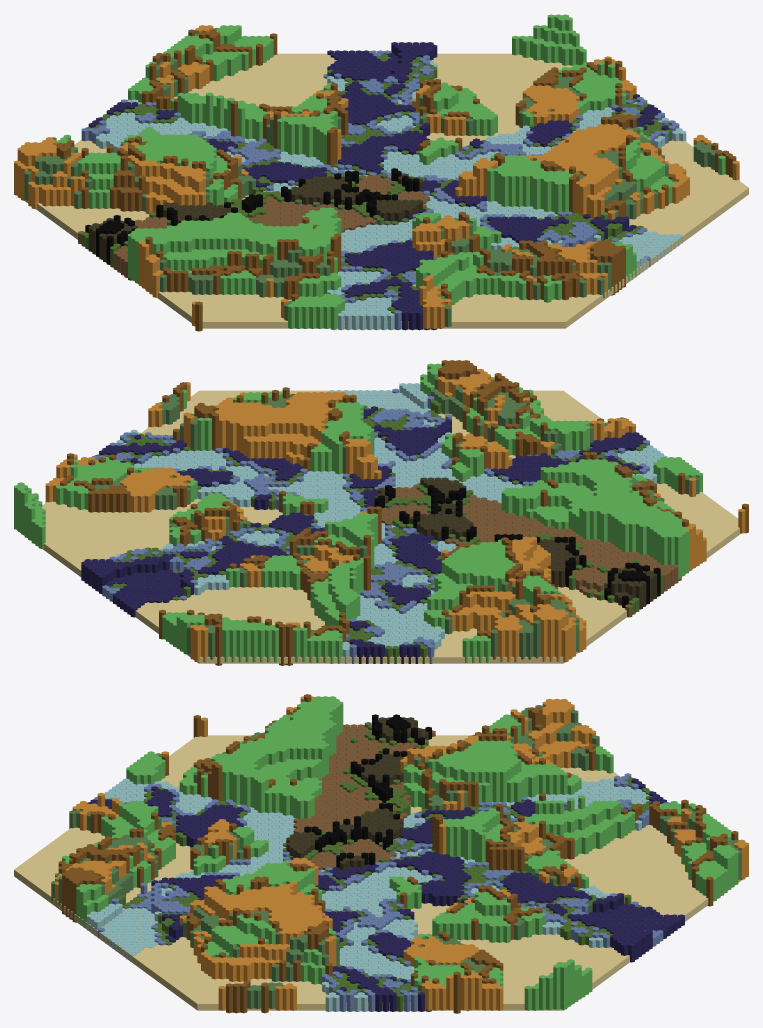
File: 0011_tile_1010000.fbx
The picture shows the model from 3 angles, top to bottom: view 1: azimuth 30°, elevation 25°; view 2: azimuth 150°, elevation 25°; view 3: azimuth 270°, elevation 25°; orthographic projection.
Visible parts, largest first — view 1: Plane; view 2: Plane; view 3: Plane.
Part boxes in pixels (box(x1,y1,x2,y2)): Plane: box(14, 14, 748, 331); Plane: box(14, 360, 748, 665); Plane: box(14, 694, 748, 1013).
Size of the model in its own units: 1008 by 88.5 by 1152.
